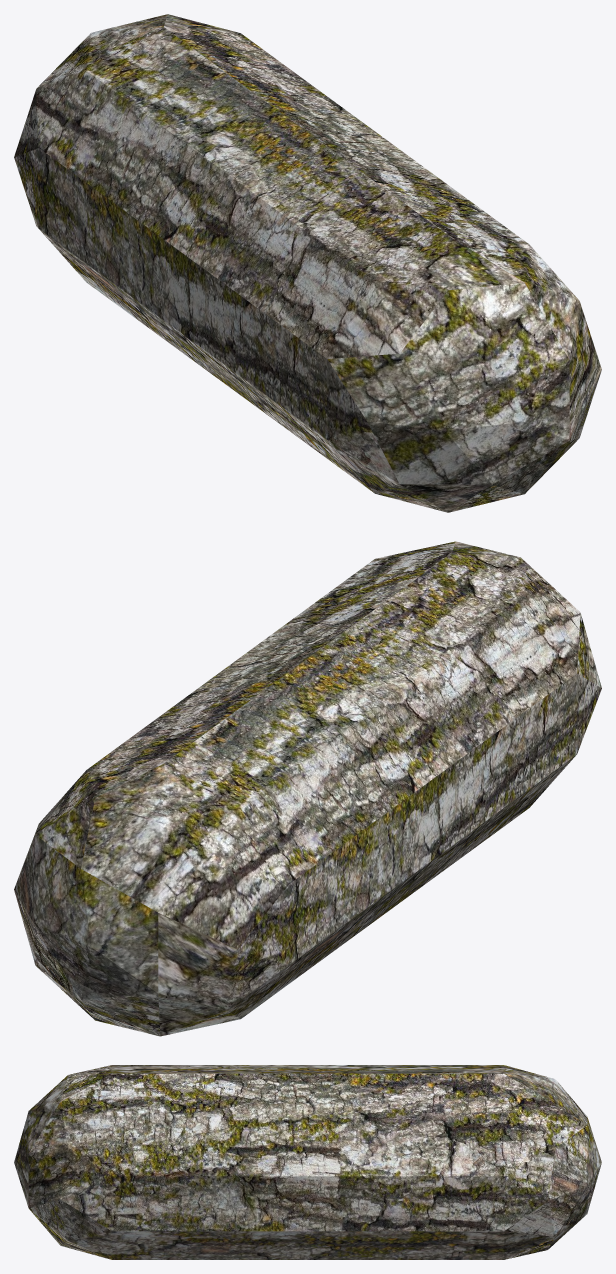
File: PlayerCapsule.dae
The picture shows the model from 3 angles, top to bottom: view 1: azimuth 30°, elevation 25°; view 2: azimuth 150°, elevation 25°; view 3: azimuth 270°, elevation 25°; orthographic projection. The views are drawn at different scales.
Parts seen in each view (by area): view 1: PlayerCapsule; view 2: PlayerCapsule; view 3: PlayerCapsule.
Part boxes in pixels (x1=…): PlayerCapsule: x1=14, y1=14, x2=601, y2=512; PlayerCapsule: x1=14, y1=541, x2=601, y2=1036; PlayerCapsule: x1=14, y1=1065, x2=601, y2=1259.
Size of what is drawn, in the model's own units: 1 by 3 by 1.
Materials: 1 (1 with a texture image).
